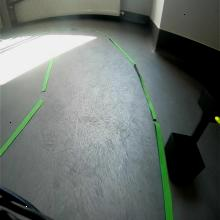green: (197, 87, 220, 124)
